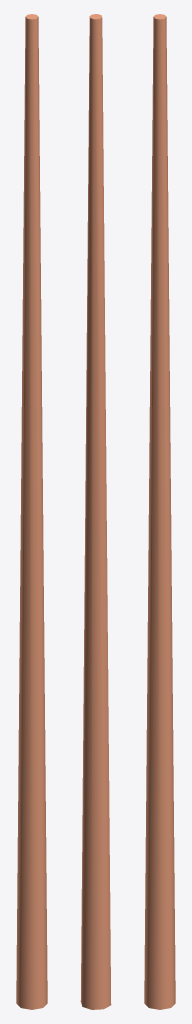
Rendered from chopstick_001.glb.
3 renders of one model, left to right at view 1: azimuth 90°, elevation 25°; view 2: azimuth 210°, elevation 25°; view 3: azimuth 270°, elevation 25°, orthographic.
Parts seen in each view (by area): view 1: chopstick.001; view 2: chopstick.001; view 3: chopstick.001.
Part boxes in pixels (x1,y1,x2,y2): chopstick.001: (16, 14, 47, 1009); chopstick.001: (80, 14, 111, 1009); chopstick.001: (144, 14, 175, 1009).
Size of the model in its own units: 0.1591 by 5.51 by 0.1591.
Materials: 1 (1 with a texture image).
